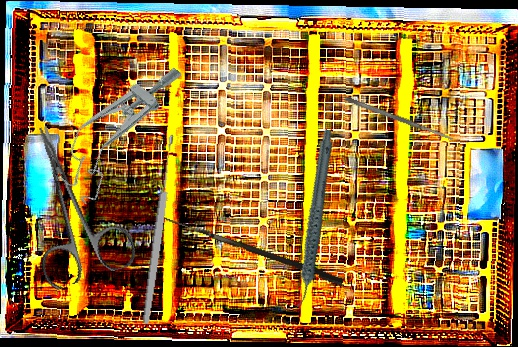Handpiece: (257, 127, 368, 311)
Hook Surgical: (156, 215, 345, 286)
Iris Scissors: (0, 111, 141, 292)
Spatula Surgical: (343, 95, 456, 143)
Speculum: (44, 44, 192, 209)
Surgical Spoon: (140, 133, 178, 326)
